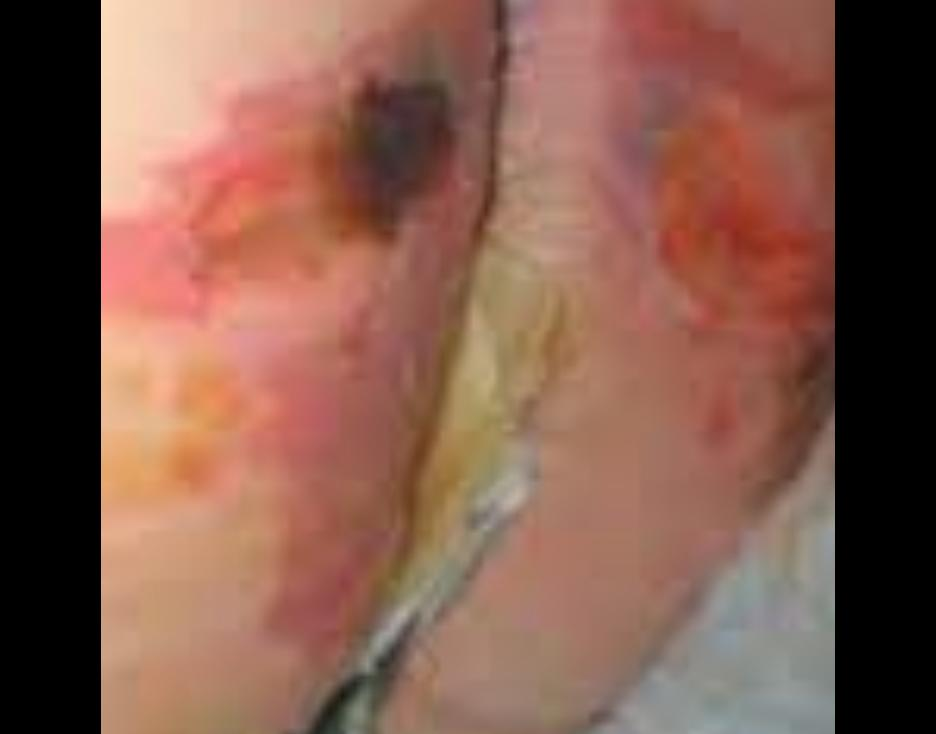Stage1: (143, 2, 835, 724)
